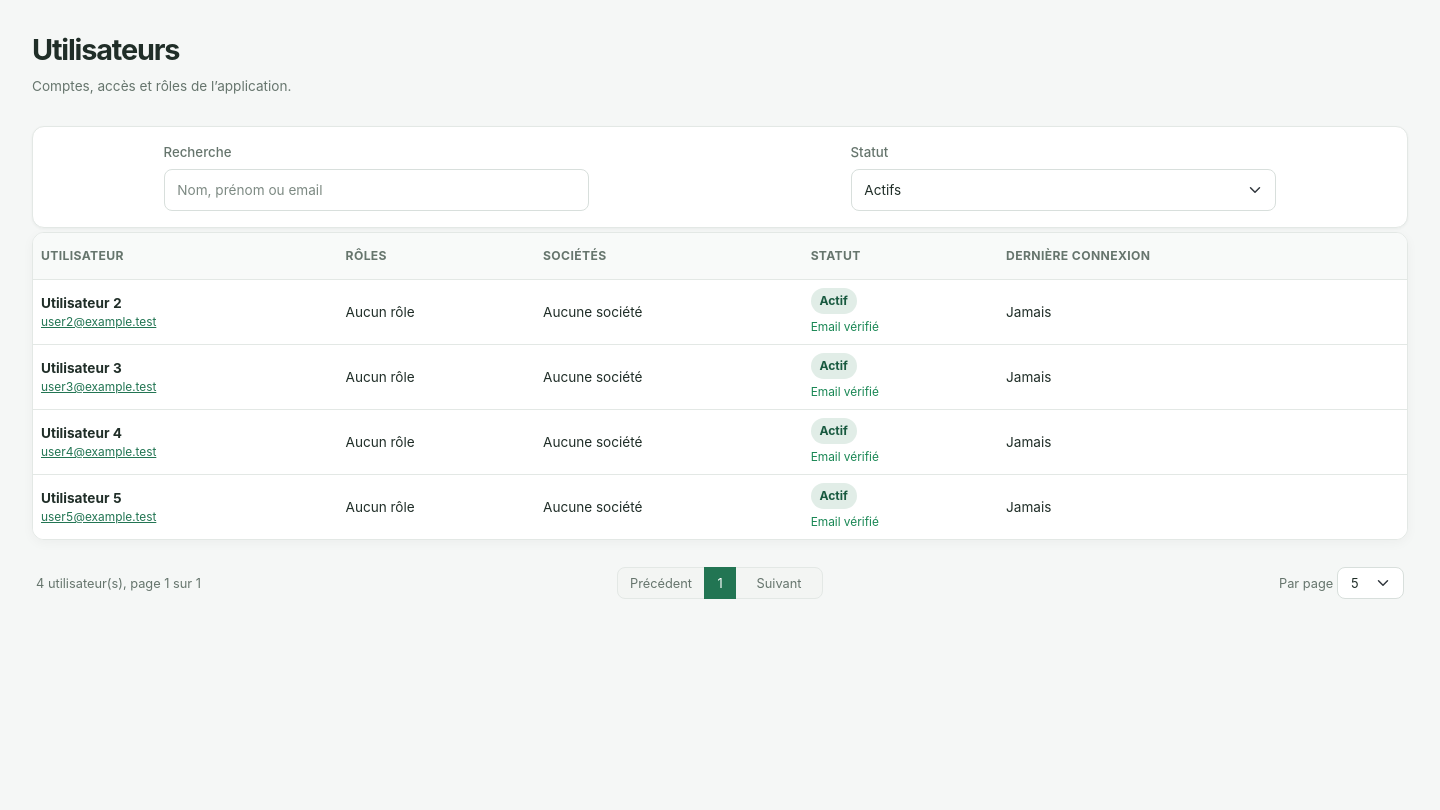
Test case: administrator table pagination › includes deleted users when all statuses are selected with read permission
Expected: the link "user5@example.test" is shown, top-left (41, 510), bottom-right (156, 524)
Expected: the text "user1@example.test" is not shown
Select "Tous les statuts" in the dropdown named "Filtrer par statut": (1064, 190) top-left (850, 169), bottom-right (1276, 211)
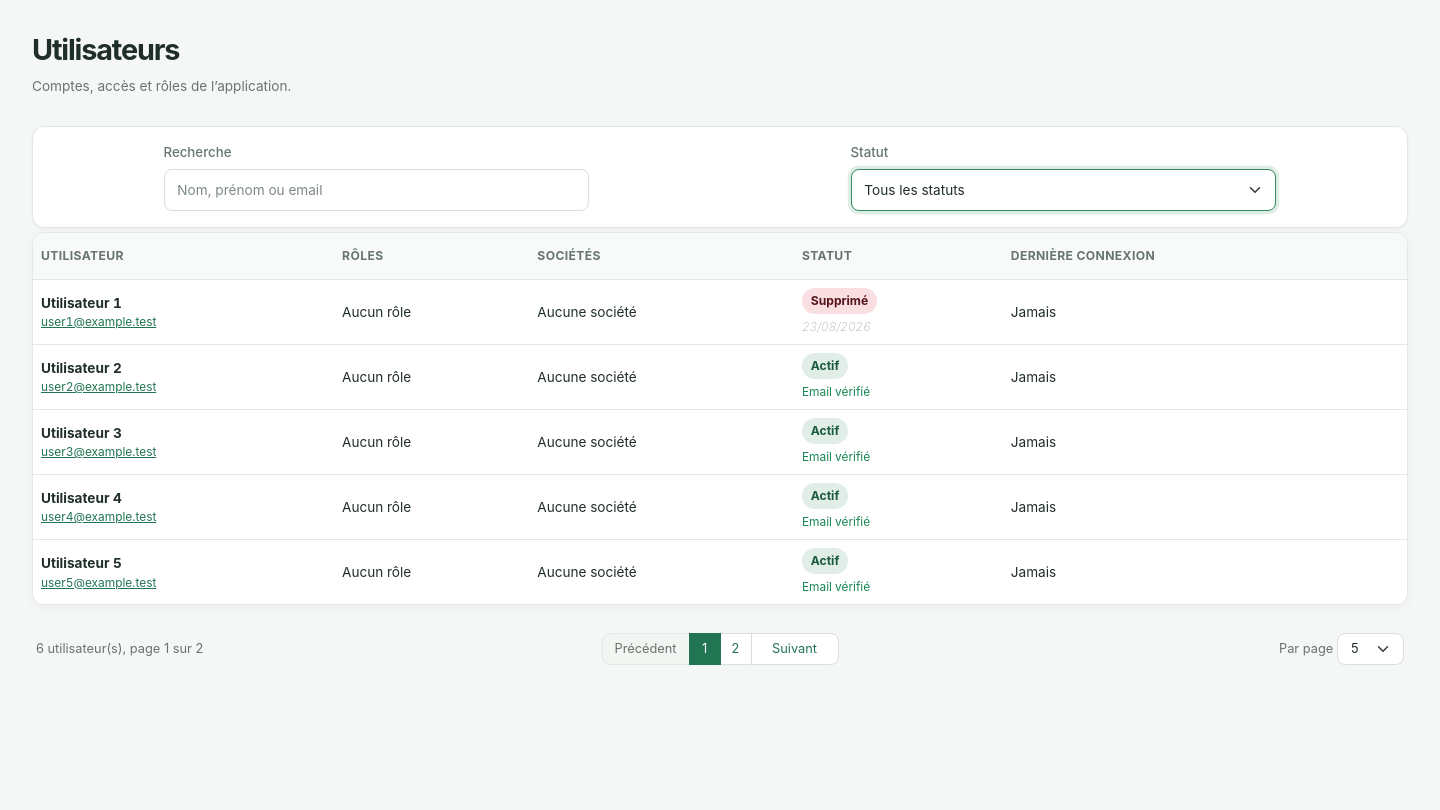
Expected: the link "user1@example.test" is shown, top-left (41, 314), bottom-right (156, 329)
Expected: the text "Supprimé" is shown, top-left (802, 288), bottom-right (877, 314)
